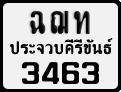letters: (49, 9, 69, 34), (20, 60, 40, 85), (28, 10, 47, 36), (41, 60, 60, 86), (61, 61, 80, 85), (81, 61, 100, 85), (73, 10, 91, 35)
province: (8, 37, 113, 56)
